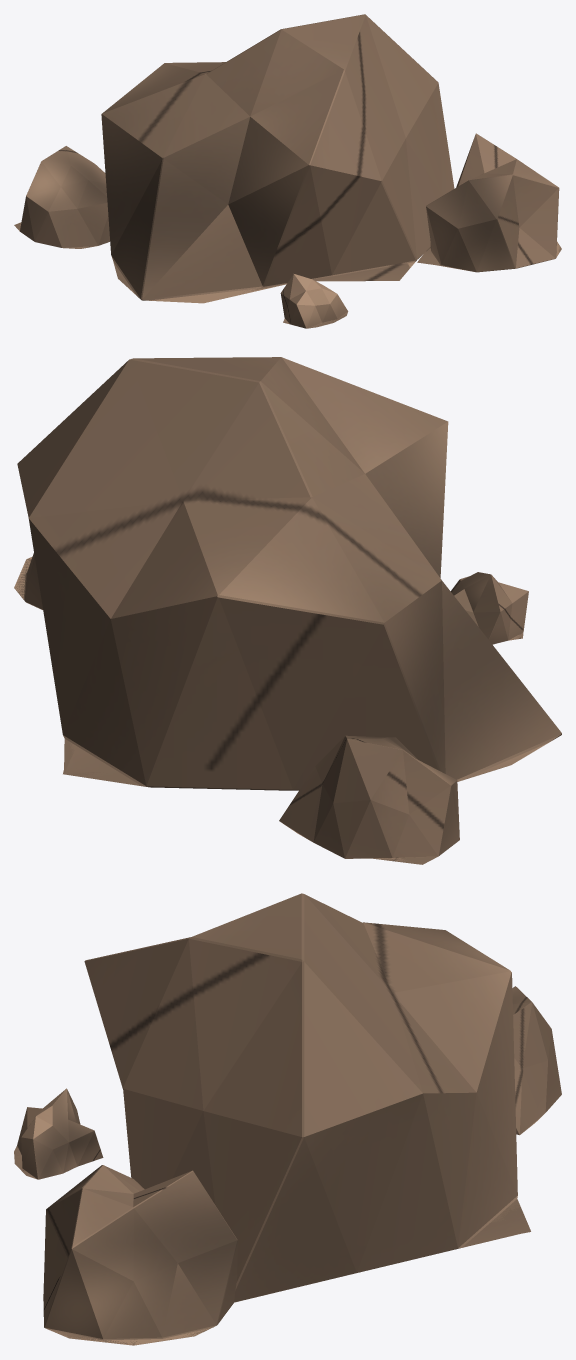
The model's file is ENV_Rock_B_v1.fbx.
3 views of the same model, one above another, from view 1: azimuth 30°, elevation 25°; view 2: azimuth 150°, elevation 25°; view 3: azimuth 270°, elevation 25° (orthographic). The views are drawn at different scales.
Parts seen in each view (by area): view 1: GEO_Rock_B; view 2: GEO_Rock_B; view 3: GEO_Rock_B.
Part boxes in pixels (<box>): GEO_Rock_B: <box>14,14,561,328</box>; GEO_Rock_B: <box>14,357,561,864</box>; GEO_Rock_B: <box>14,893,561,1345</box>.
Size of the model in its own units: 343 by 172 by 281.
